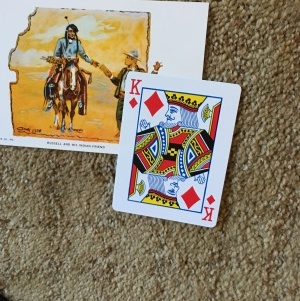card: (113, 71, 241, 230)
